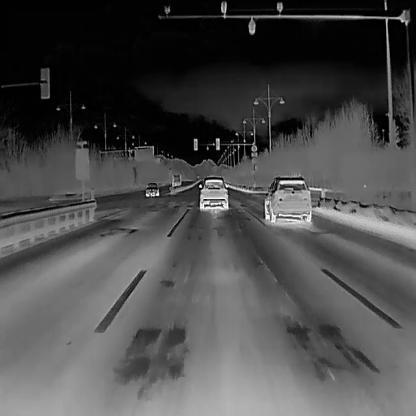car: (263, 173, 311, 222), (198, 176, 228, 208), (145, 181, 157, 197), (172, 174, 181, 188)
